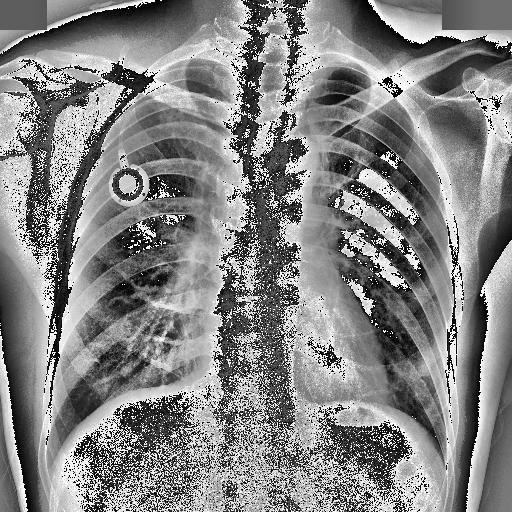0- Aortic enlargement: (268, 135, 317, 191)
13- Pulmonary fibrosis: (152, 100, 185, 144)
6- Infiltration: (150, 100, 200, 144)
9- Other lesion: (152, 100, 185, 144)
